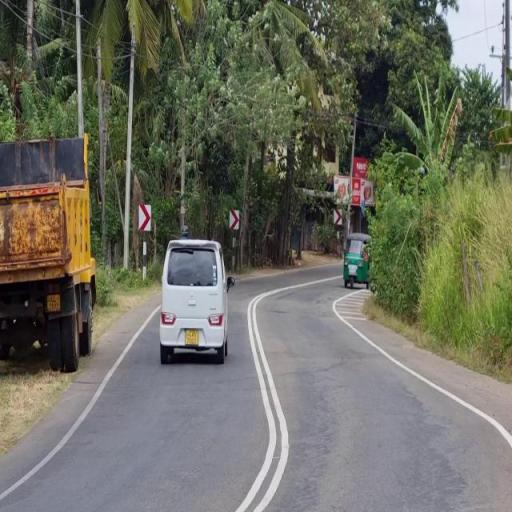double_white_line: (240, 289, 291, 510)
